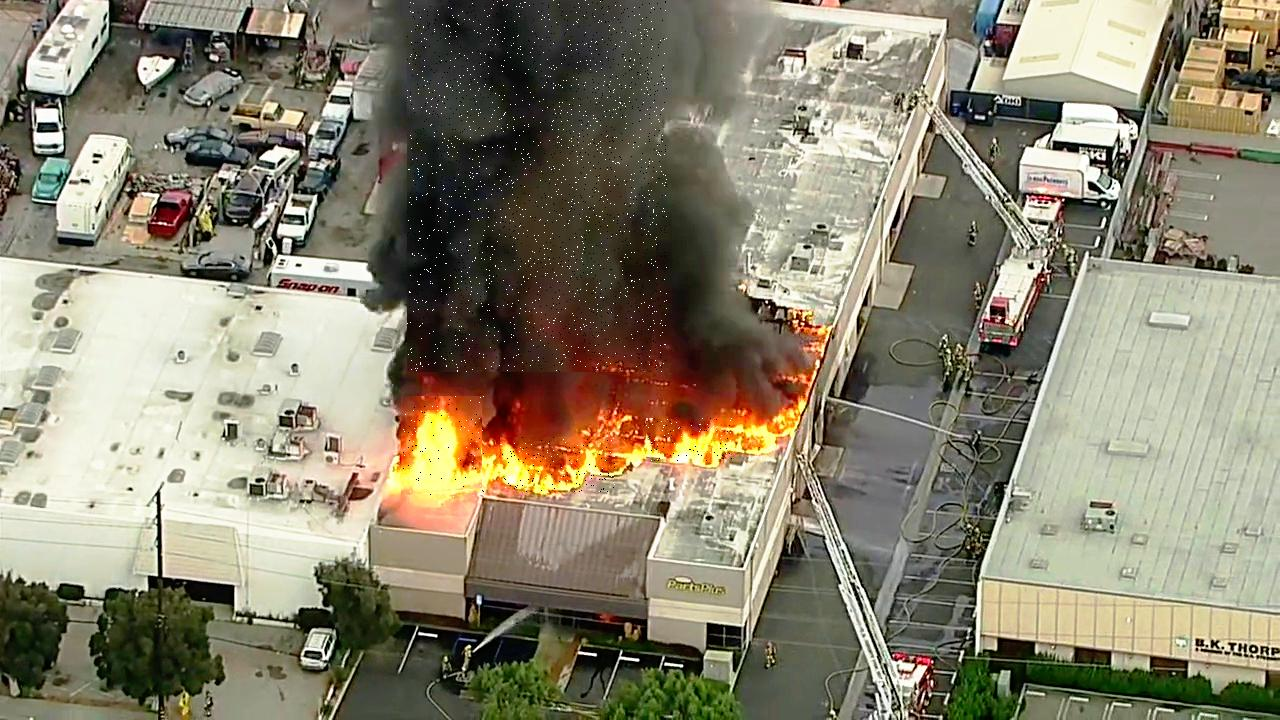fire: (402, 397, 485, 498), (501, 437, 617, 492), (646, 419, 732, 462)
smoke: (407, 0, 667, 372)
